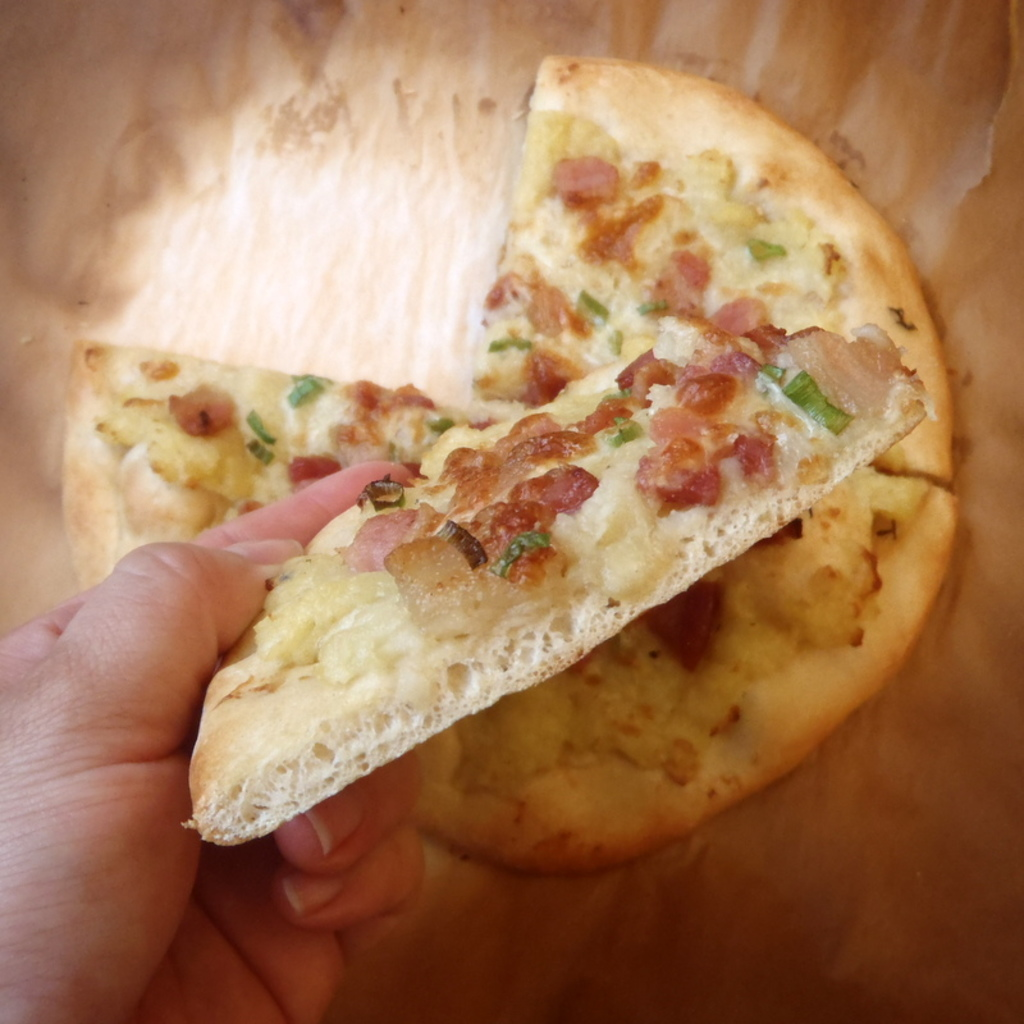Pizza: (404, 459, 958, 879), (465, 53, 954, 483), (60, 337, 501, 597)
